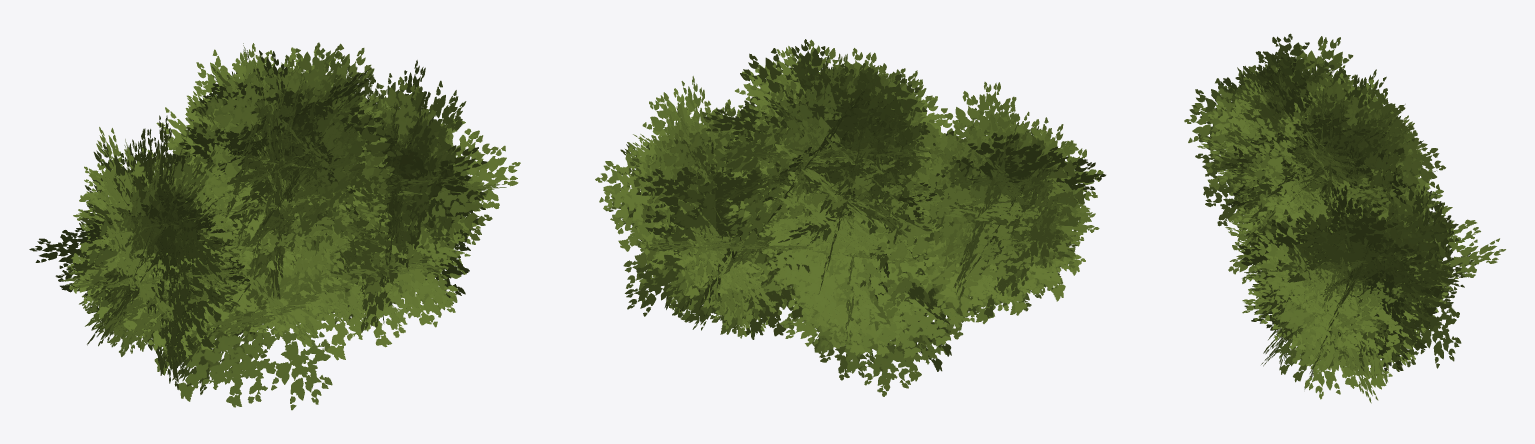
File: Bush.fbx
3 views of the same model, side by side, from view 1: azimuth 30°, elevation 25°; view 2: azimuth 150°, elevation 25°; view 3: azimuth 270°, elevation 25° (orthographic). The views are drawn at different scales.
Visible parts, largest first — view 1: Grass texture.001; view 2: Grass texture.001; view 3: Grass texture.001.
Boxes of the visible parts, x1,y1,x2,y2 form: Grass texture.001: (29, 42, 520, 410); Grass texture.001: (595, 39, 1105, 396); Grass texture.001: (1184, 33, 1505, 403).
Size of the model in its own units: 6.21 by 4.44 by 4.17.
